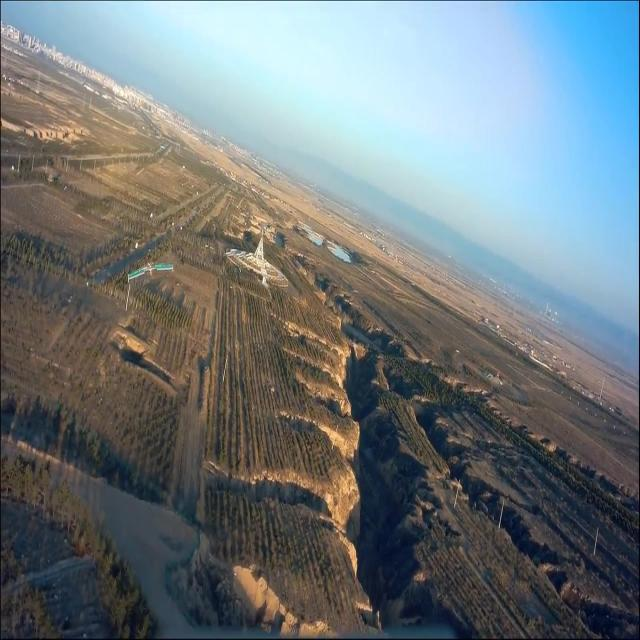iha: (128, 262, 173, 281)
